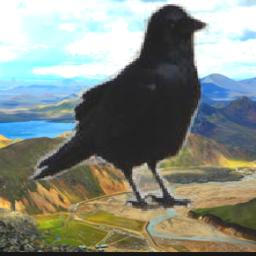Crow: (27, 2, 212, 212)
